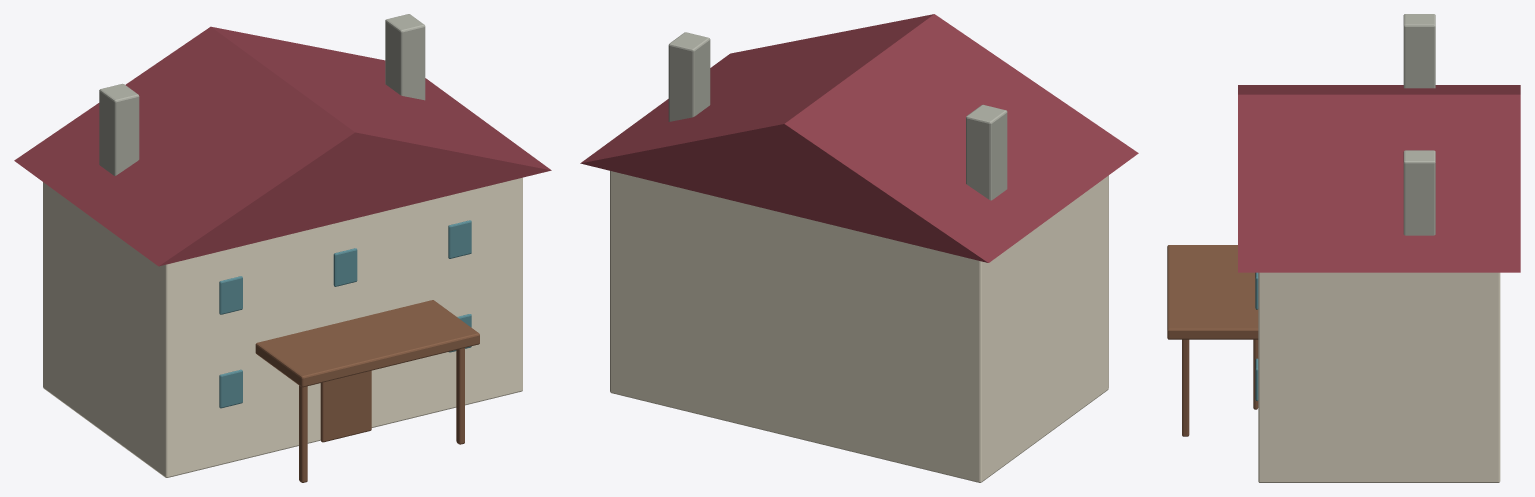
Rendered from resort_hotel.glb.
3 views of the same model, side by side, from view 1: azimuth 30°, elevation 25°; view 2: azimuth 150°, elevation 25°; view 3: azimuth 270°, elevation 25° (orthographic). The views are drawn at different scales.
Visible parts, largest first — view 1: resort_hotel_ivory, resort_hotel_maroon, resort_hotel_timber, resort_hotel_stone, resort_hotel_glass; view 2: resort_hotel_ivory, resort_hotel_maroon, resort_hotel_stone; view 3: resort_hotel_ivory, resort_hotel_maroon, resort_hotel_timber, resort_hotel_stone.
Part boxes in pixels (x1,y1,x2,y2): resort_hotel_ivory: (43, 177, 522, 477); resort_hotel_maroon: (14, 26, 551, 266); resort_hotel_timber: (255, 300, 479, 482); resort_hotel_stone: (99, 14, 425, 175); resort_hotel_glass: (219, 220, 471, 408); resort_hotel_ivory: (610, 171, 1108, 482); resort_hotel_maroon: (580, 14, 1138, 262); resort_hotel_stone: (668, 32, 1007, 200); resort_hotel_ivory: (1258, 272, 1500, 482); resort_hotel_maroon: (1238, 85, 1520, 272); resort_hotel_timber: (1167, 245, 1258, 436); resort_hotel_stone: (1403, 14, 1435, 235).
Bounding box in the file's own units: 11 × 8.5 × 8.75.
